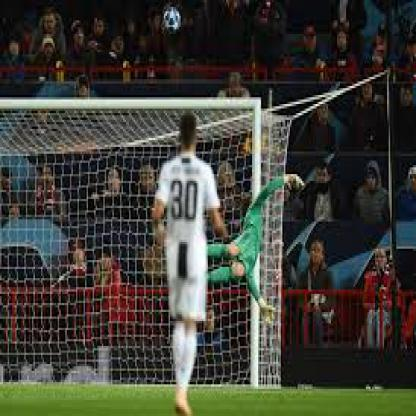goal: (144, 6, 300, 334)
